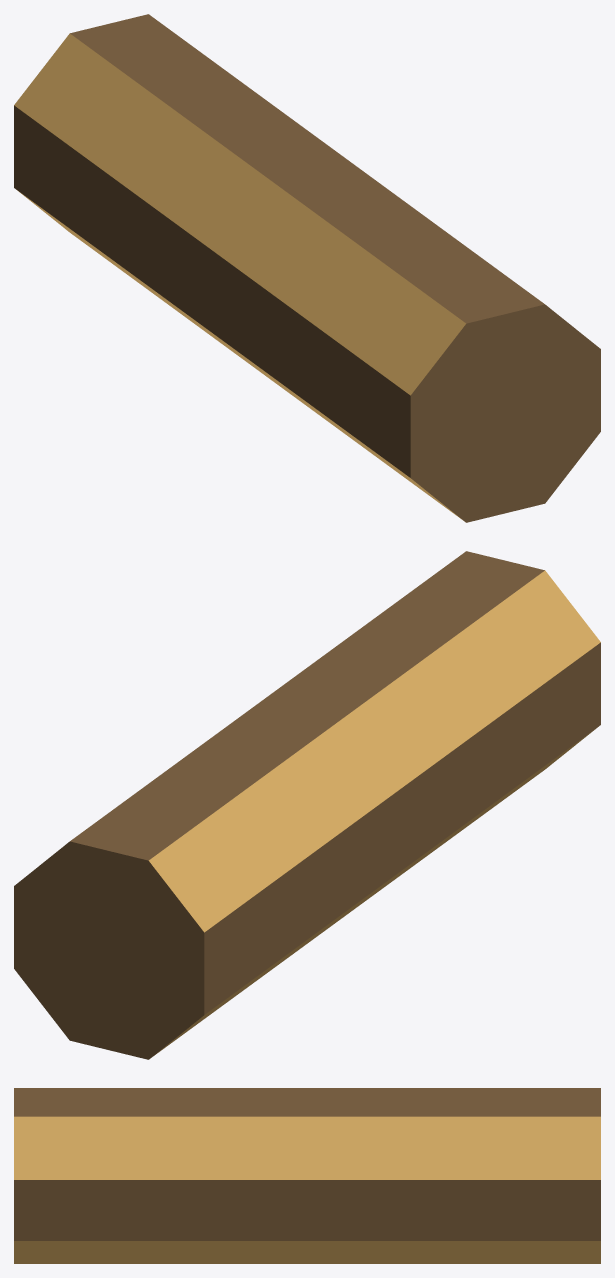
File: Tronco.fbx
3 renders of one model, top to bottom at view 1: azimuth 30°, elevation 25°; view 2: azimuth 150°, elevation 25°; view 3: azimuth 270°, elevation 25°, orthographic. The views are drawn at different scales.
Parts seen in each view (by area): view 1: Cylinder; view 2: Cylinder; view 3: Cylinder.
Boxes of the visible parts, box(x1,y1,x2,y2) form: Cylinder: box(14, 14, 600, 522); Cylinder: box(14, 551, 600, 1059); Cylinder: box(14, 1088, 600, 1263).
Bounding box in the file's own units: 55.43 × 55.43 × 200.
